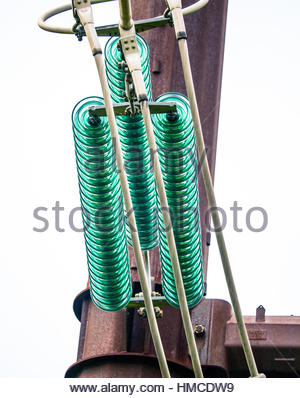isolator: (70, 32, 203, 312)
